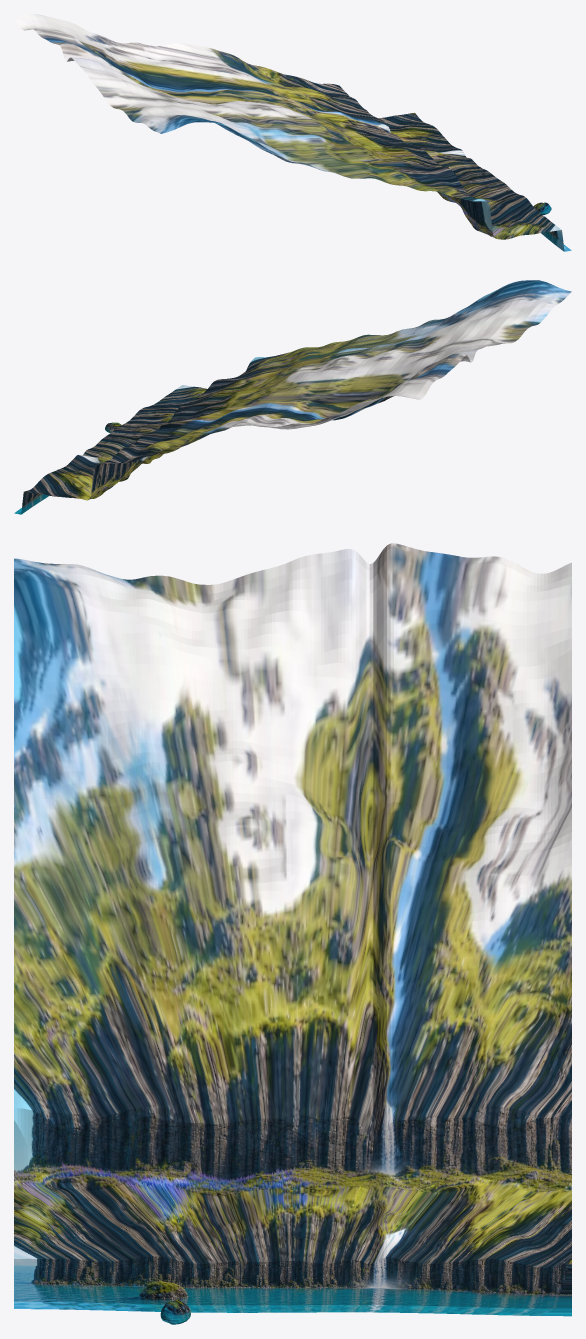
Rendered from shore-a.glb.
3 views of the same model, one above another, from view 1: azimuth 30°, elevation 25°; view 2: azimuth 150°, elevation 25°; view 3: azimuth 270°, elevation 25° (orthographic). The views are drawn at different scales.
Parts seen in each view (by area): view 1: Shore; view 2: Shore; view 3: Shore.
Boxes of the visible parts, <box> form: Shore: <box>14,14,571,251</box>; Shore: <box>14,280,571,514</box>; Shore: <box>14,543,571,1316</box>.
Bounding box in the file's own units: 324 × 162 × 200.
1 material, 1 textured.
